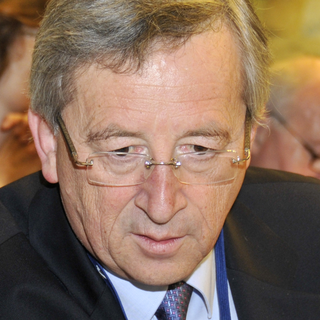eye: (175, 139, 221, 163), (101, 142, 147, 165)
